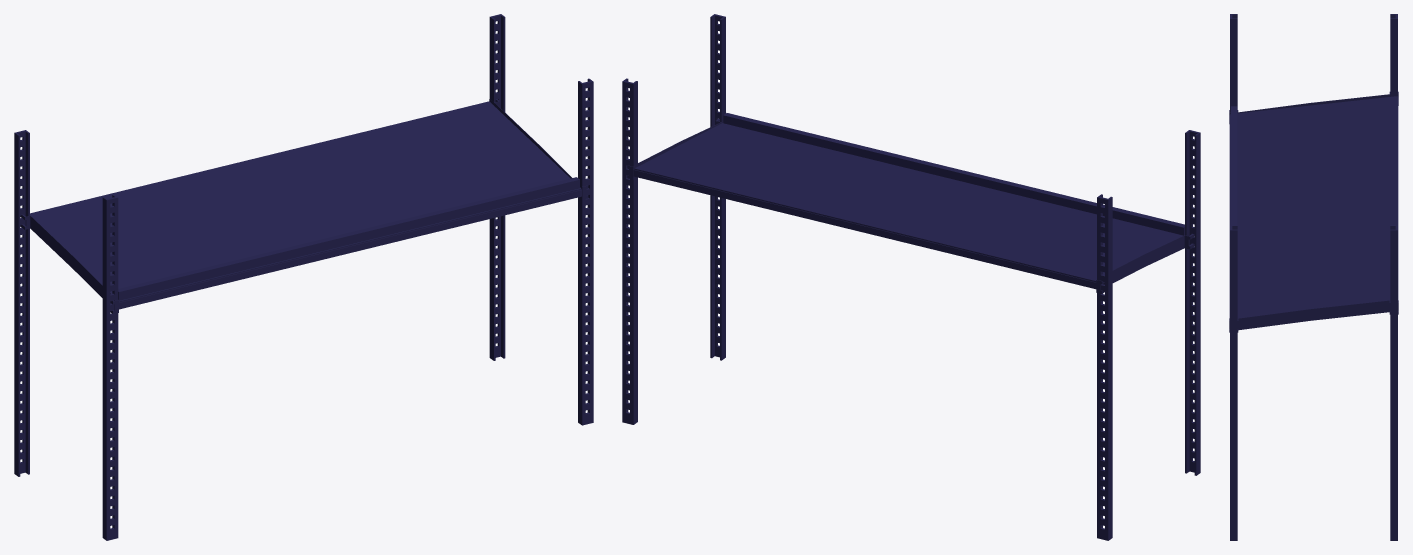
File: etagere_A.FBX
3 views of the same model, side by side, from view 1: azimuth 30°, elevation 25°; view 2: azimuth 150°, elevation 25°; view 3: azimuth 270°, elevation 25° (orthographic). The views are drawn at different scales.
Visible parts, largest first — view 1: Object003; view 2: Object003; view 3: Object003.
Part boxes in pixels (x1,y1,x2,y2): Object003: (14,14,593,540); Object003: (622,14,1200,540); Object003: (1229,14,1398,540).
Bounding box in the file's own units: 101 × 67.78 × 33.47.
